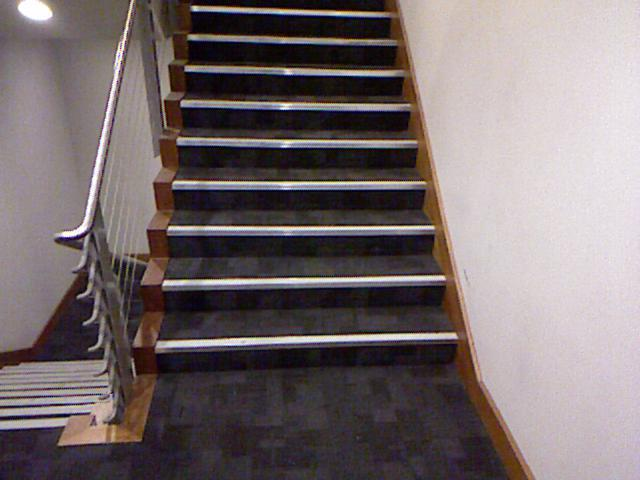Escaleras: (121, 0, 463, 363), (0, 329, 139, 441)
